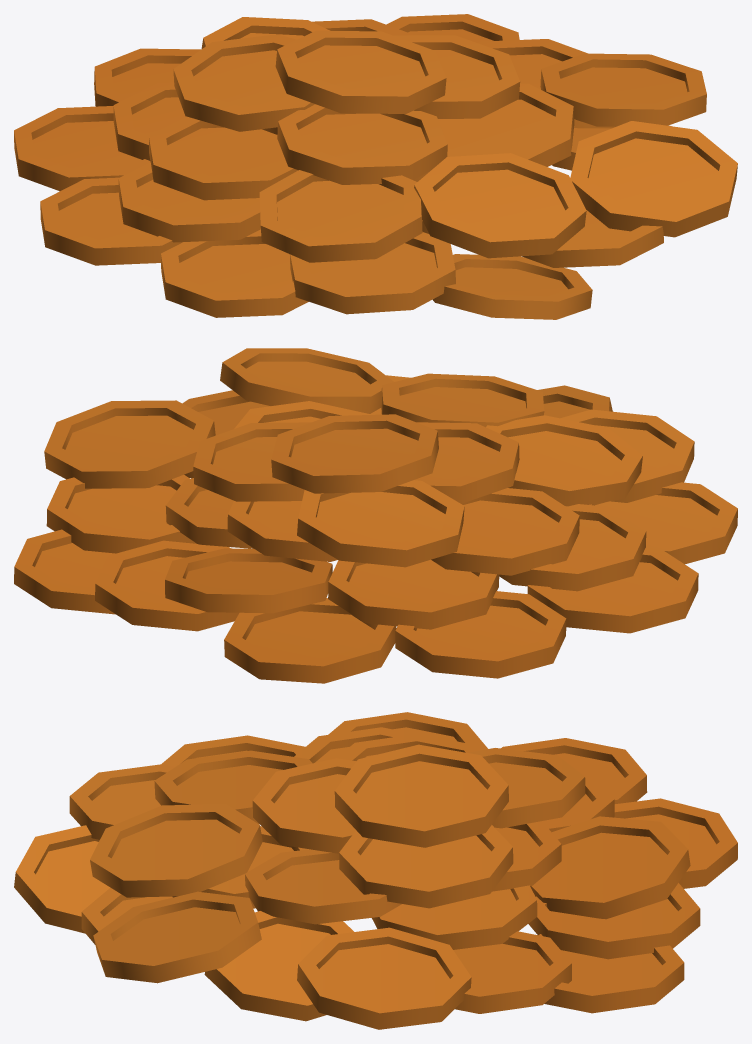
Rendered from Coins.fbx.
3 renders of one model, top to bottom at view 1: azimuth 30°, elevation 25°; view 2: azimuth 150°, elevation 25°; view 3: azimuth 270°, elevation 25°, orthographic.
Parts seen in each view (by area): view 1: Cylinder.058; view 2: Cylinder.058; view 3: Cylinder.058.
Boxes of the visible parts, left/top/right/bottom form: Cylinder.058: left=14, top=14, right=737, bottom=319; Cylinder.058: left=14, top=348, right=737, bottom=683; Cylinder.058: left=14, top=712, right=737, bottom=1029.
Size of the model in its own units: 288 by 56.19 by 281.
